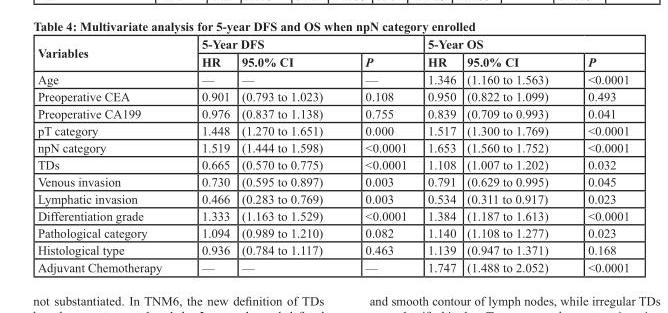table: (36, 36, 629, 274)
table column: (36, 36, 181, 274), (235, 36, 343, 274), (460, 36, 567, 274), (343, 36, 416, 274), (567, 36, 629, 274), (181, 36, 235, 274), (416, 36, 460, 274)
table column header: (36, 36, 629, 70)
table row: (36, 52, 629, 70), (36, 240, 629, 258), (36, 70, 629, 87), (36, 87, 629, 104), (36, 104, 629, 121), (36, 121, 629, 138), (36, 138, 629, 155), (36, 155, 629, 172), (36, 172, 629, 189), (36, 189, 629, 206), (36, 206, 629, 223), (36, 223, 629, 240), (36, 36, 629, 52), (36, 258, 629, 274)
table spanning cell: (36, 36, 181, 70), (181, 36, 416, 52), (416, 36, 629, 52)
